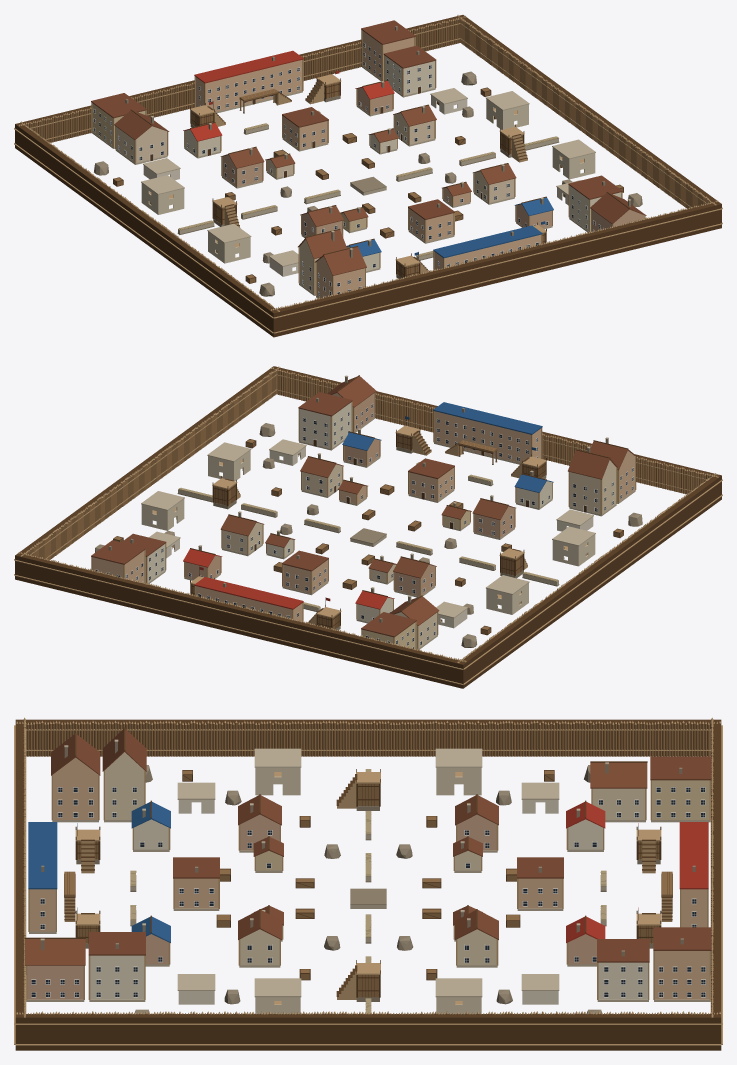
File: fronteira.glb
3 views of the same model, one above another, from view 1: azimuth 30°, elevation 25°; view 2: azimuth 150°, elevation 25°; view 3: azimuth 270°, elevation 25° (orthographic). The views are drawn at different scales.
Visible parts, largest first — view 1: map_wood_dark.001, map_wood.001, map_wood_light.001, map_roof_slate.001, map_wall_1.001, map_stone.001, map_wall_0.001, map_hw_d8c9ae.001, map_wall_2.001, map_trim.001, map_wall_3.001, map_roof_red.001 (+7 smaller); view 2: map_wood_dark.001, map_wood.001, map_wood_light.001, map_roof_slate.001, map_wall_1.001, map_stone.001, map_wall_0.001, map_hw_d8c9ae.001, map_wall_2.001, map_wall_3.001, map_trim.001, map_roof_blue.001 (+7 smaller); view 3: map_wood_dark.001, map_wood.001, map_roof_slate.001, map_wood_light.001, map_stone.001, map_wall_1.001, map_wall_0.001, map_wall_2.001, map_wall_3.001, map_hw_d8c9ae.001, map_roof_red.001, map_roof_blue.001 (+7 smaller).
Part boxes in pixels (x1,y1,x2,y2): map_wood_dark.001: (15,15,721,337); map_wood.001: (18,16,717,311); map_wood_light.001: (14,15,722,333); map_roof_slate.001: (91,20,646,275); map_wall_1.001: (195,30,541,298); map_stone.001: (91,66,630,298); map_wall_0.001: (116,113,514,293); map_hw_d8c9ae.001: (141,99,595,263); map_wall_2.001: (184,56,621,270); map_trim.001: (93,43,604,297); map_wall_3.001: (222,87,644,236); map_roof_red.001: (183,50,394,141); map_wood_dark.001: (15,366,721,688); map_wood.001: (18,369,718,663); map_wood_light.001: (14,366,722,684); map_roof_slate.001: (91,376,636,637); map_wall_1.001: (92,411,635,621); map_stone.001: (141,375,635,649); map_wall_0.001: (222,460,616,648); map_hw_d8c9ae.001: (141,450,595,614); map_wall_2.001: (145,402,552,622); map_wall_3.001: (185,393,514,596); map_trim.001: (95,403,633,648); map_roof_blue.001: (342,402,553,492); map_wood_dark.001: (15,719,721,1050); map_wood.001: (17,719,720,1017); map_roof_slate.001: (25,729,711,965); map_wood_light.001: (14,717,722,1045); map_stone.001: (26,739,710,1001); map_wall_1.001: (30,757,709,999); map_wall_0.001: (105,752,644,965); map_wall_2.001: (90,819,647,999); map_wall_3.001: (27,814,596,999); map_hw_d8c9ae.001: (255,767,481,1013); map_roof_red.001: (566,802,708,942); map_roof_blue.001: (28,802,170,942).
Size of the model in its own units: 157 by 18.57 by 157.
